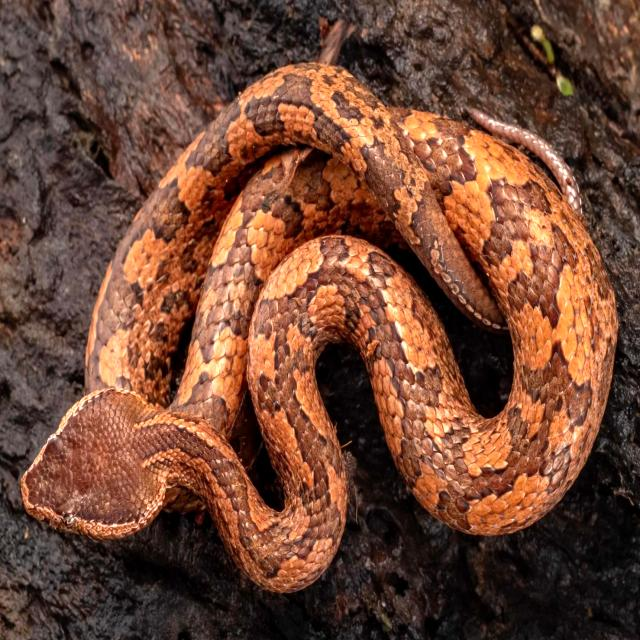Ovophis monticola: (22, 65, 617, 591)
snake: (22, 65, 617, 591)
